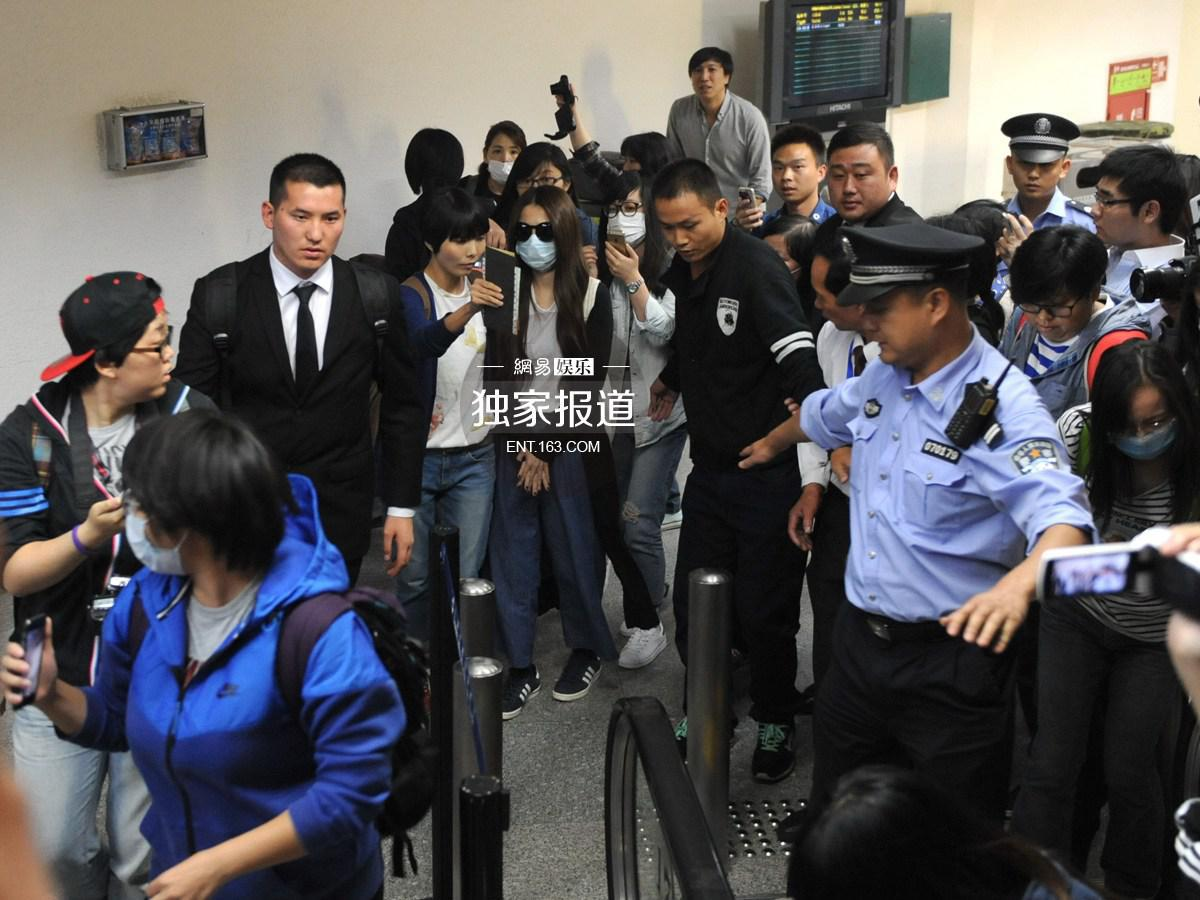NONE: (865, 300, 931, 371), (116, 321, 176, 399), (275, 201, 344, 268), (1025, 283, 1082, 342), (1091, 183, 1145, 245), (808, 269, 857, 337), (661, 211, 717, 265), (828, 158, 880, 216), (515, 167, 565, 217), (440, 231, 485, 278), (1014, 156, 1059, 200), (773, 157, 813, 202), (696, 65, 724, 96)
OK: (125, 496, 209, 581), (1110, 397, 1176, 461), (513, 212, 561, 274), (603, 189, 656, 242)
WRONG: (483, 139, 522, 178)
